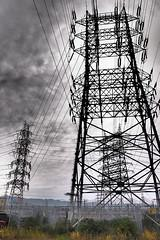power_tower: (60, 4, 160, 225), (0, 117, 36, 210)
